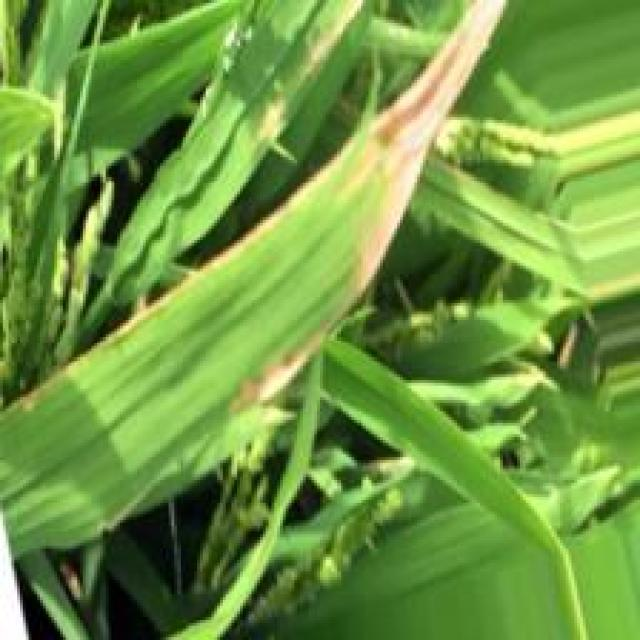Unhealthy: (333, 0, 508, 300), (229, 331, 321, 411), (299, 0, 364, 72), (258, 99, 283, 135)
